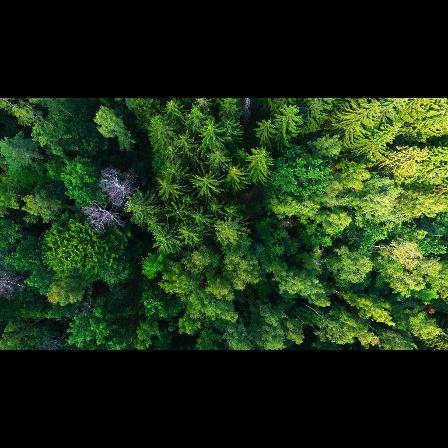Dead: (81, 207, 126, 234), (102, 176, 140, 204), (238, 98, 256, 129)
